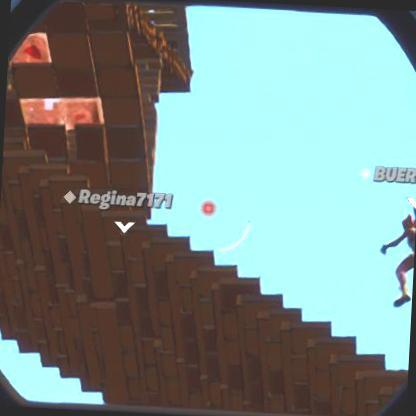person: (383, 212, 416, 302)
